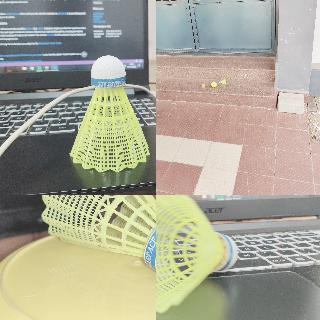shuttlecock: (41, 195, 155, 283), (68, 55, 152, 172), (156, 195, 237, 314), (219, 78, 225, 84)
